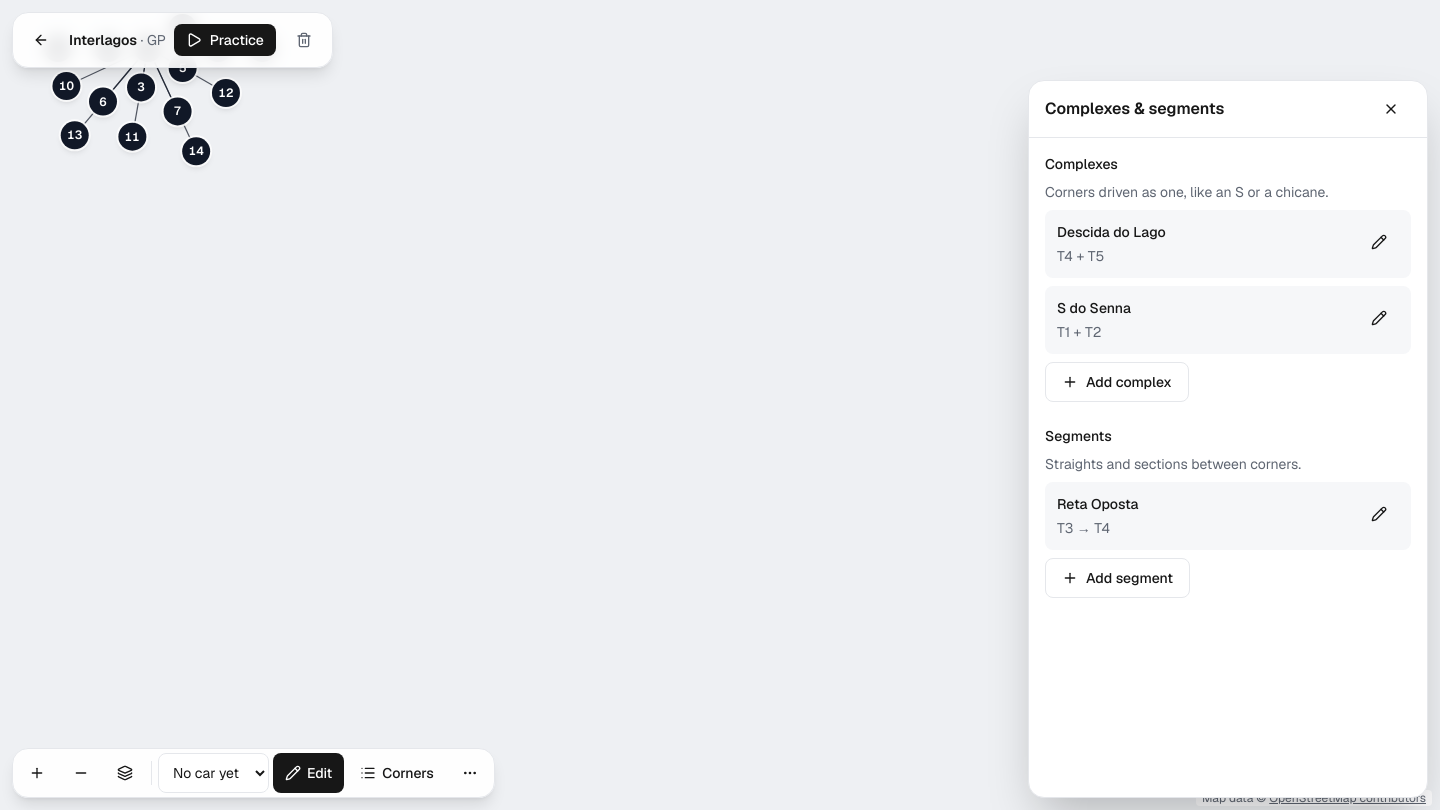
Test case: Complexes & segments › adds a complex with corners in lap order
This screenshot has width=1440, height=810.
Step 1. Click the button "Add complex" → [1117, 382], box left=1045, top=362, right=1189, bottom=402
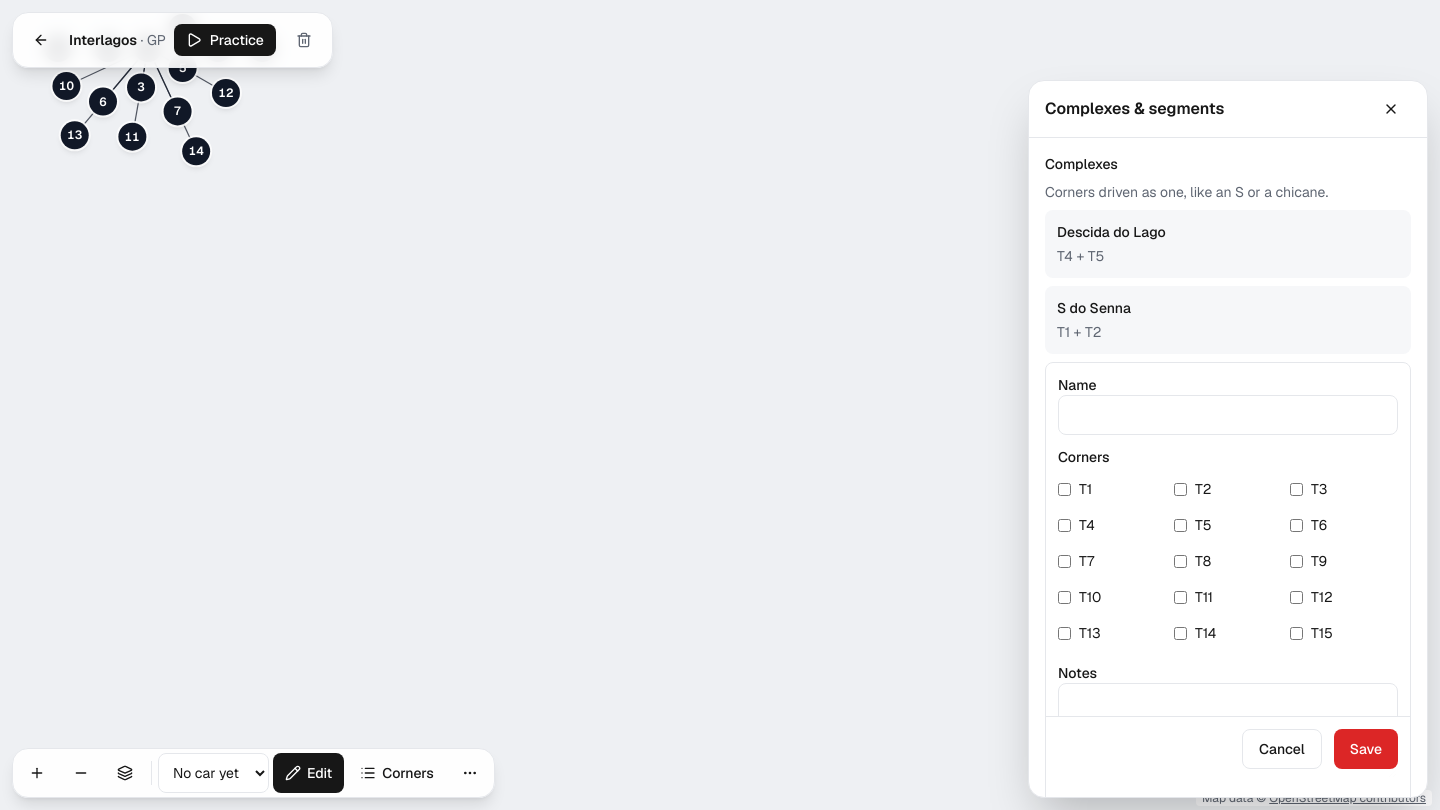
Step 2. Click the button with aria-label "Save new complex" → [1366, 749], box left=1334, top=729, right=1398, bottom=769
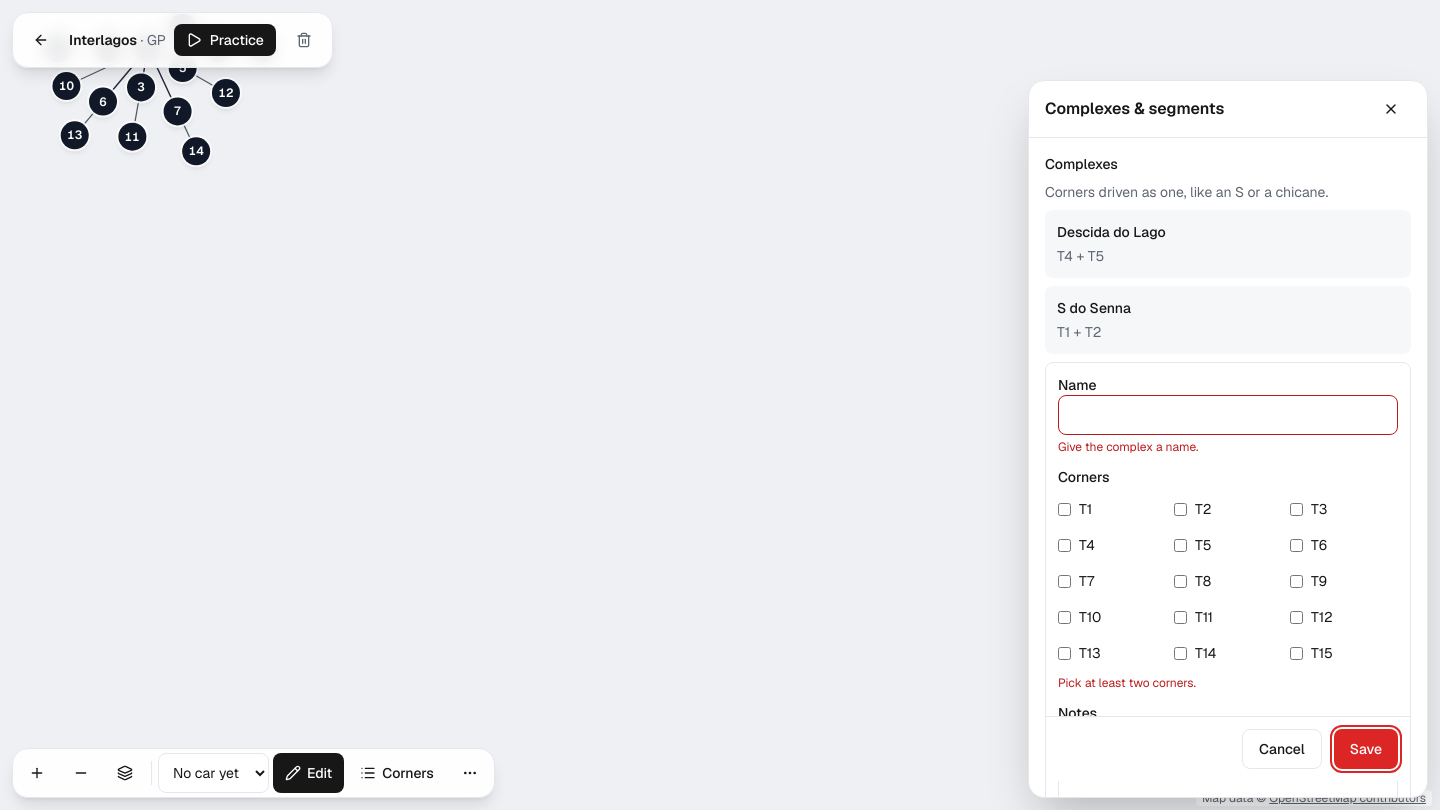
expect the text "Give the complex a name." is shown: met, box left=1058, top=439, right=1198, bottom=455
expect the text "Pick at least two corners." is shown: met, box left=1058, top=675, right=1196, bottom=691
Step 3. Type "Junção" into the field labelled "Name" → [1228, 415], box left=1058, top=395, right=1398, bottom=435
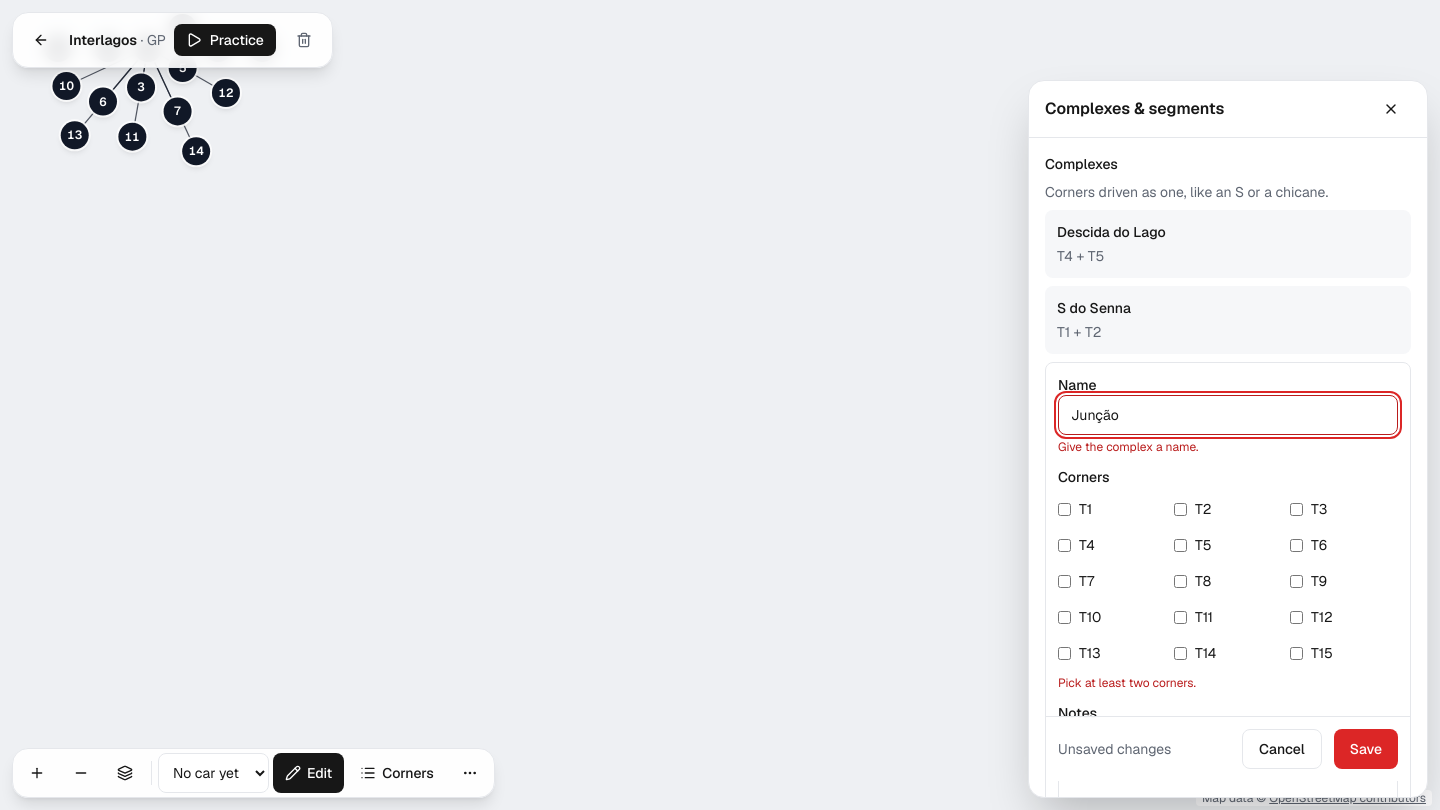
Step 4. Click the checkbox labelled "T13" → [1064, 653], box left=1058, top=646, right=1071, bottom=660
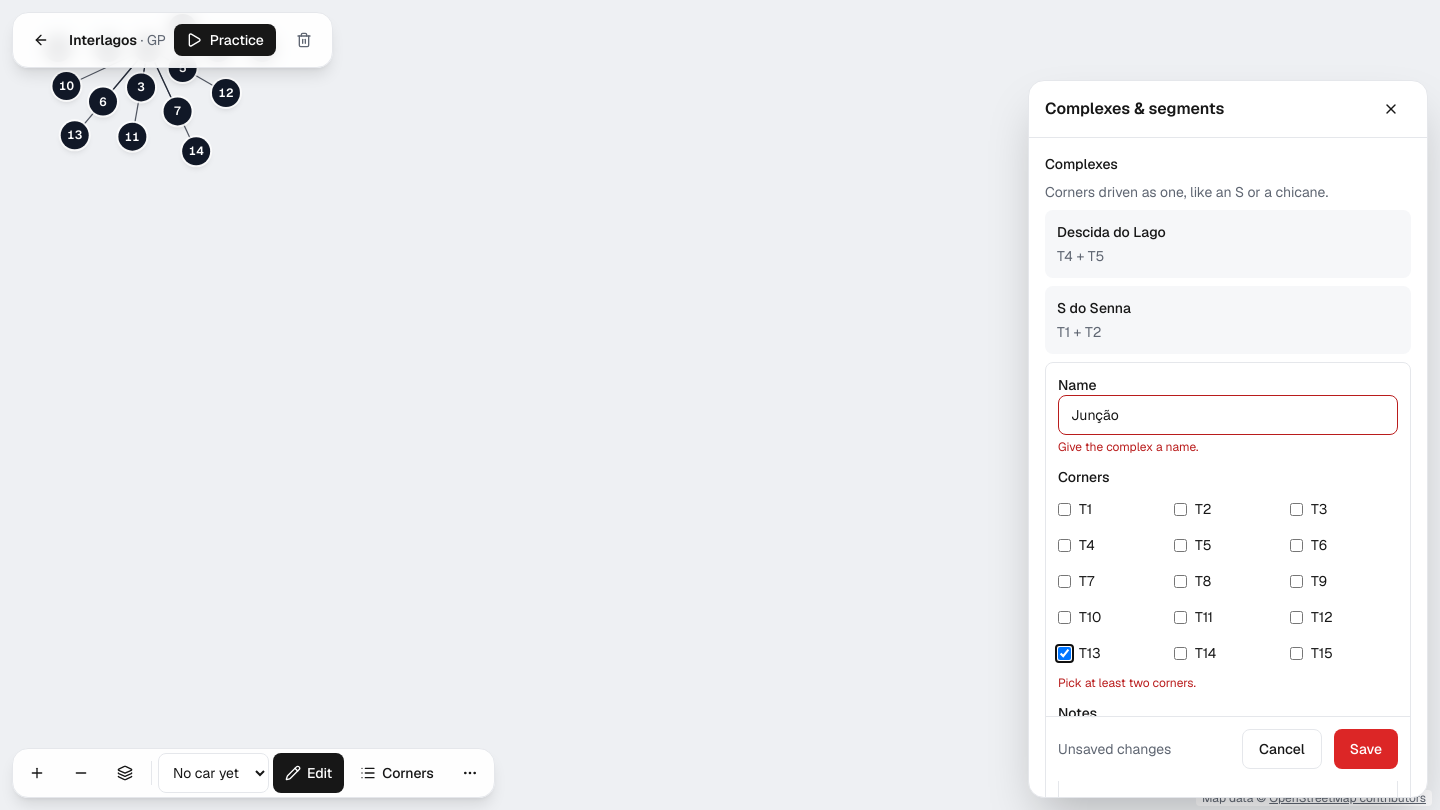
Step 5. Click the checkbox labelled "T12" → [1296, 617], box left=1290, top=610, right=1303, bottom=624
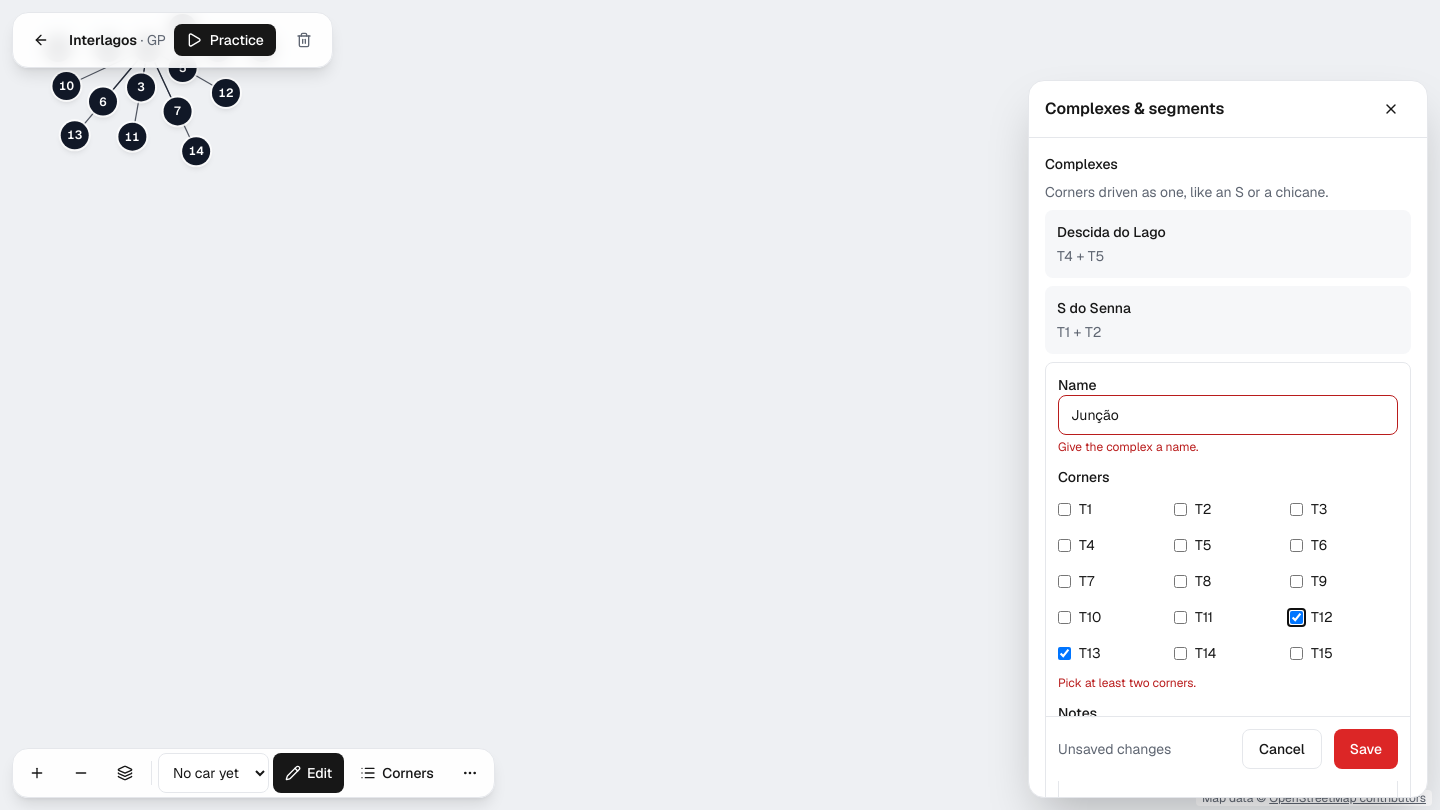
Step 6. Click the button with aria-label "Save new complex" → [1366, 749], box left=1334, top=729, right=1398, bottom=769
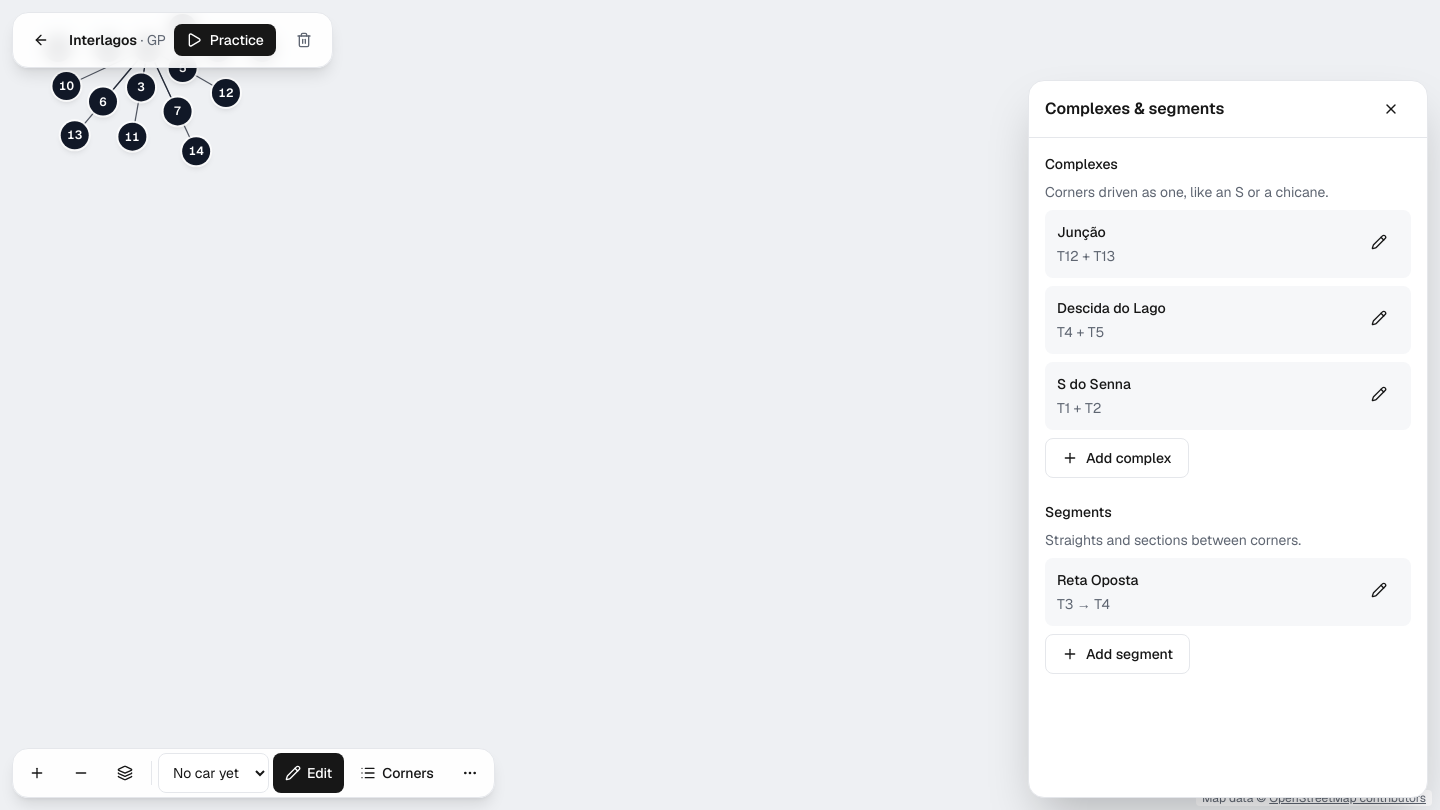
expect the text "T12 + T13" is shown: met, box left=1057, top=247, right=1115, bottom=265
